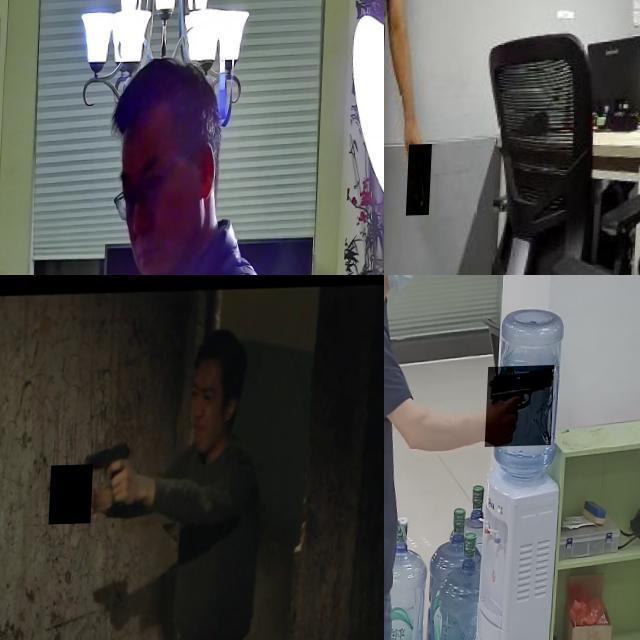-: (411, 146, 436, 218)
gun-knife-thesis - v11 Yolov5 augmented: (488, 368, 557, 450), (84, 437, 132, 512), (51, 466, 96, 526)
